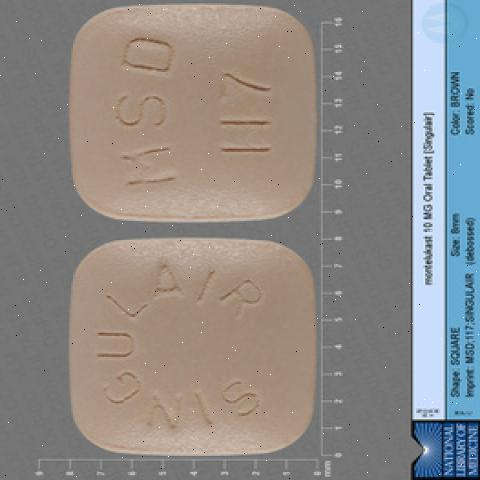Pill: (55, 224, 344, 458), (54, 4, 336, 230)
